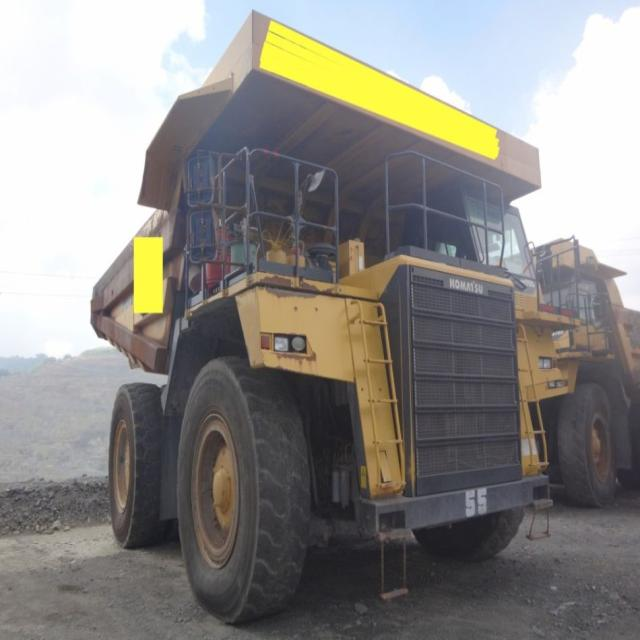dump_truck: (74, 11, 566, 616)
